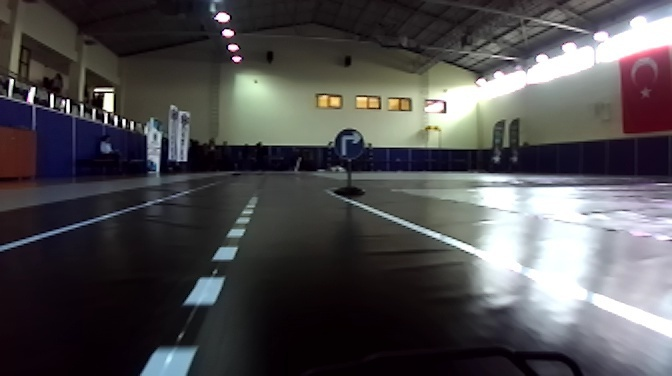saga_donus: (332, 128, 363, 159)
